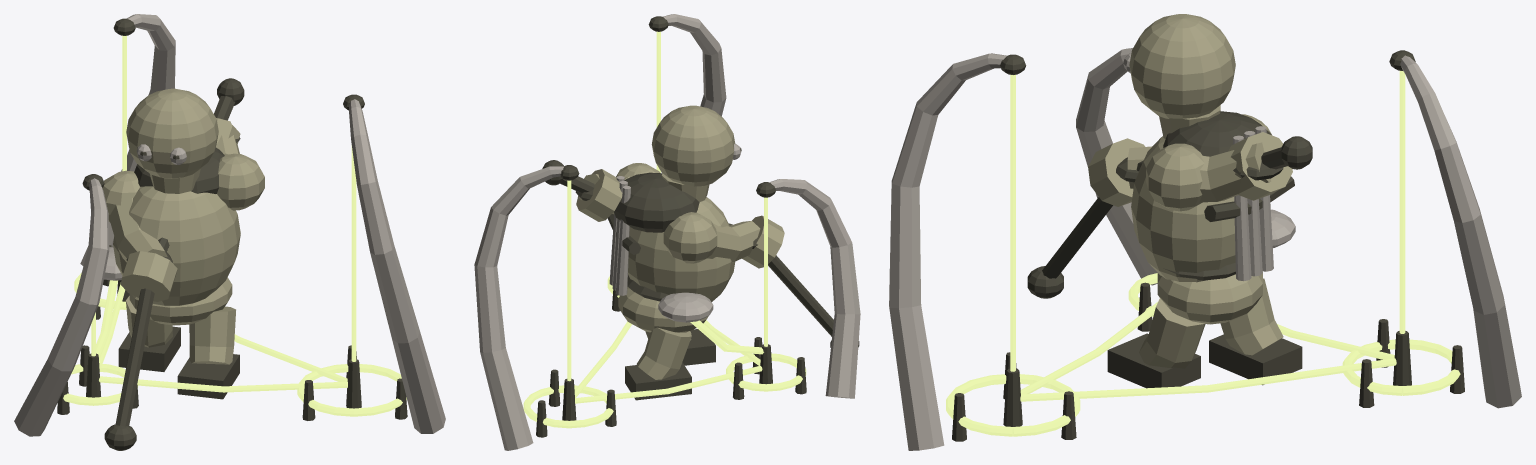
The model's file is snarer_chibi.glb.
3 renders of one model, left to right at view 1: azimuth 30°, elevation 25°; view 2: azimuth 150°, elevation 25°; view 3: azimuth 270°, elevation 25°, orthographic. The views are drawn at different scales.
Parts seen in each view (by area): view 1: snarer_chibi_body, snarer_chibi_bone, snarer_chibi_dark, snarer_chibi_glow; view 2: snarer_chibi_body, snarer_chibi_bone, snarer_chibi_dark, snarer_chibi_glow; view 3: snarer_chibi_body, snarer_chibi_bone, snarer_chibi_dark, snarer_chibi_glow.
Boxes of the visible parts, <box> form: snarer_chibi_body: <box>102,88,264,364</box>; snarer_chibi_bone: <box>14,14,445,436</box>; snarer_chibi_dark: <box>57,18,407,450</box>; snarer_chibi_glow: <box>63,35,406,416</box>; snarer_chibi_body: <box>576,105,784,379</box>; snarer_chibi_bone: <box>474,14,860,450</box>; snarer_chibi_dark: <box>536,16,859,437</box>; snarer_chibi_glow: <box>523,31,806,428</box>; snarer_chibi_body: <box>1088,14,1292,368</box>; snarer_chibi_bone: <box>889,48,1521,450</box>; snarer_chibi_dark: <box>952,50,1464,441</box>; snarer_chibi_glow: <box>946,71,1460,436</box>.
Bounding box in the file's own units: 2.65 × 2.45 × 3.73.
